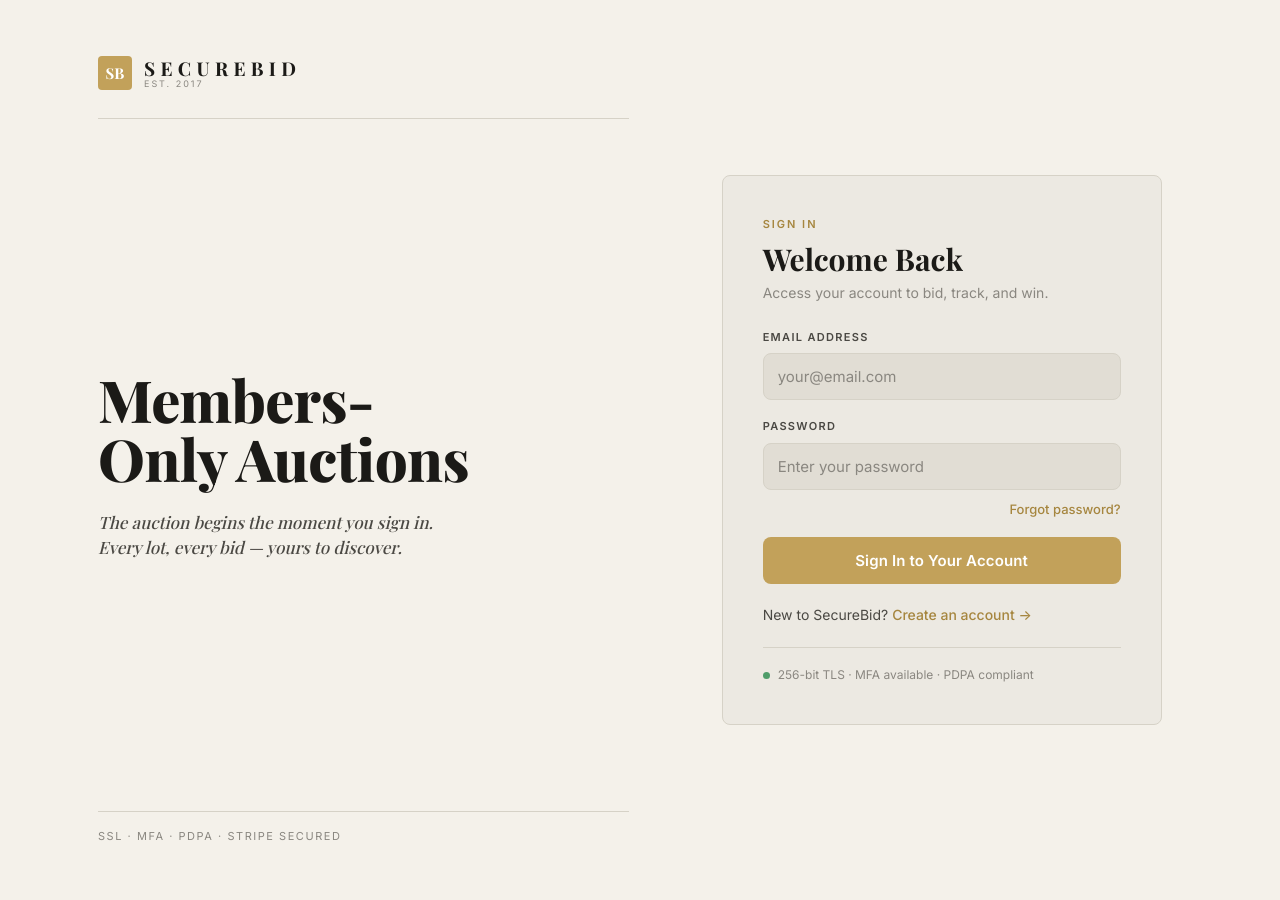
Test: Login — integration with AuthContext and routing › shows the server error and stays on the login page on failure
Expected: the heading "Welcome Back" is shown, [763,238,963,278]
Type "a@b.com" into the field labelled "Email Address".
click(942, 376); type("a@b.com")  # box [763,353,1121,400]
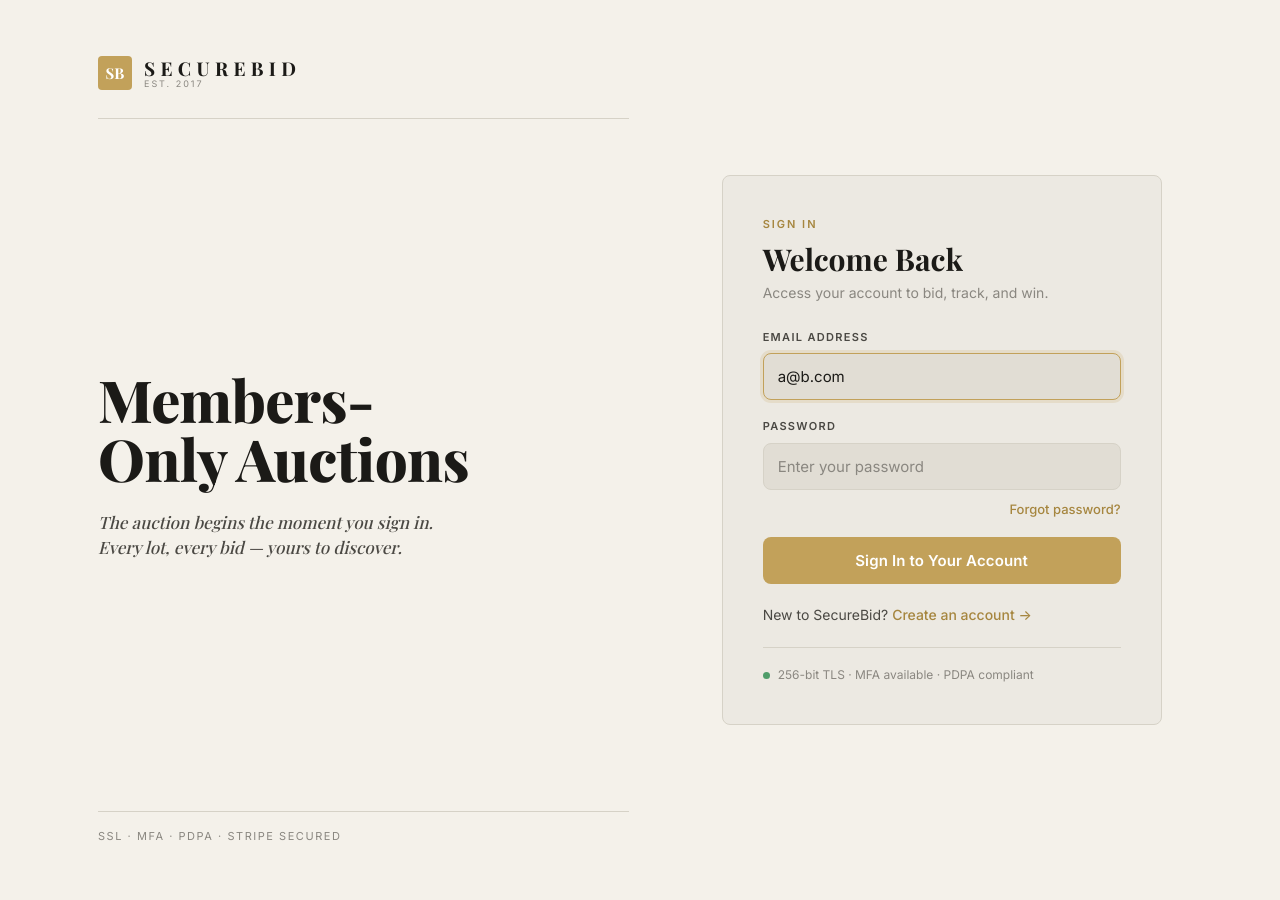
Type "WrongPass!" into the password field labelled "Password".
click(942, 466); type("WrongPass!")  # box [763,442,1121,490]
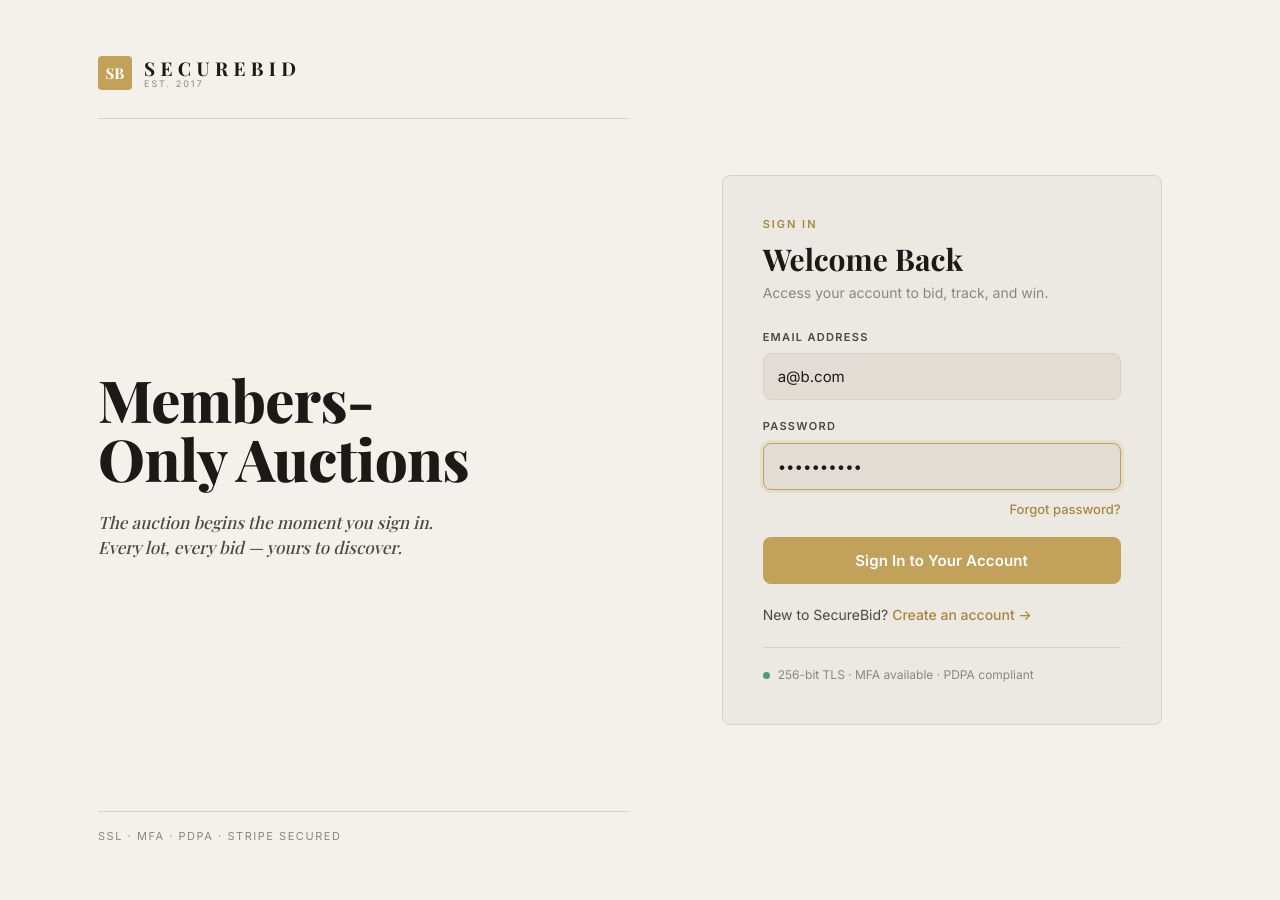
Click the button "Sign In to Your Account".
click(942, 560)  # box [763,537,1121,584]
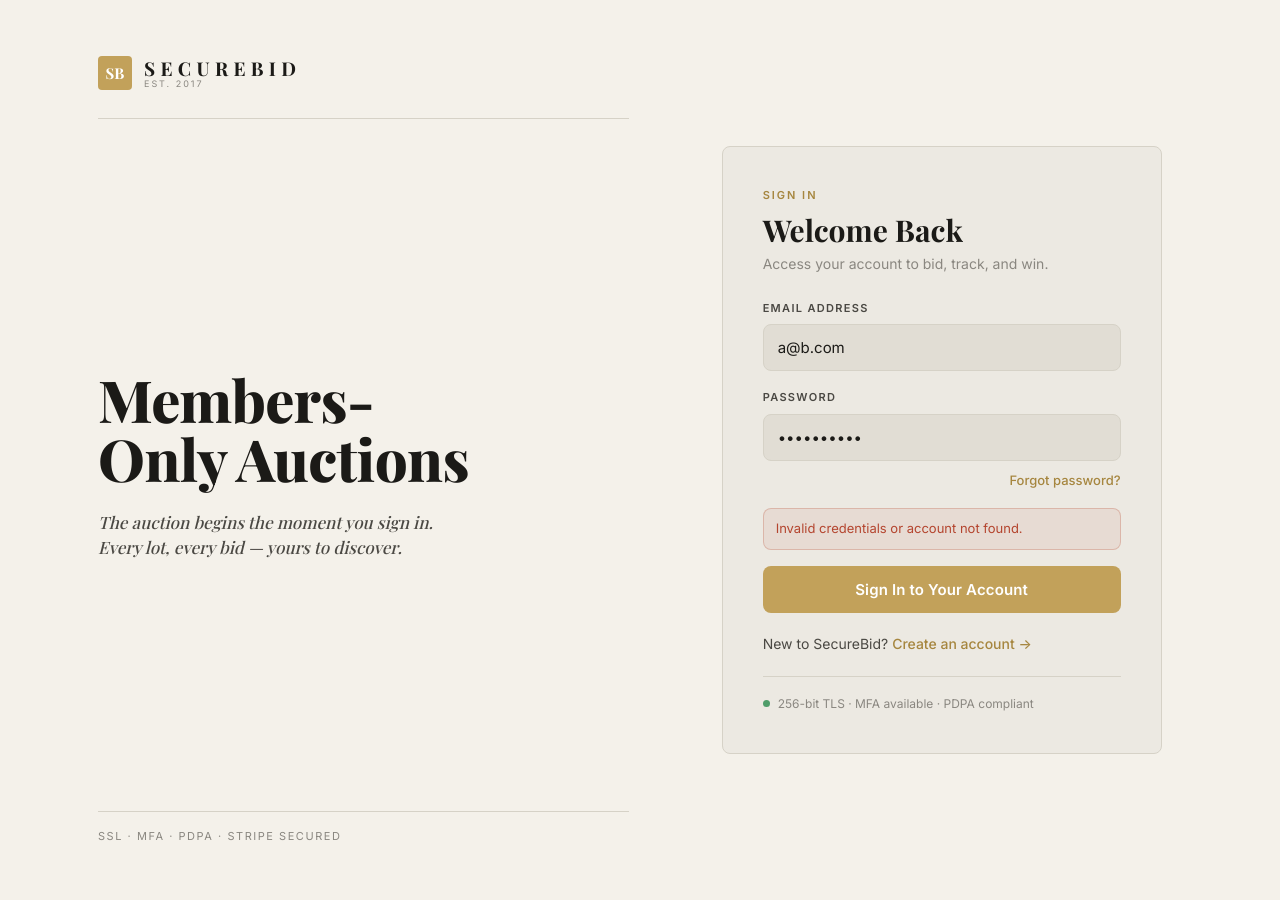
Expected: the heading "Welcome Back" is shown, [763,210,963,250]
Expected: the text "Invalid credentials or account not found." is shown, [763,508,1121,550]
